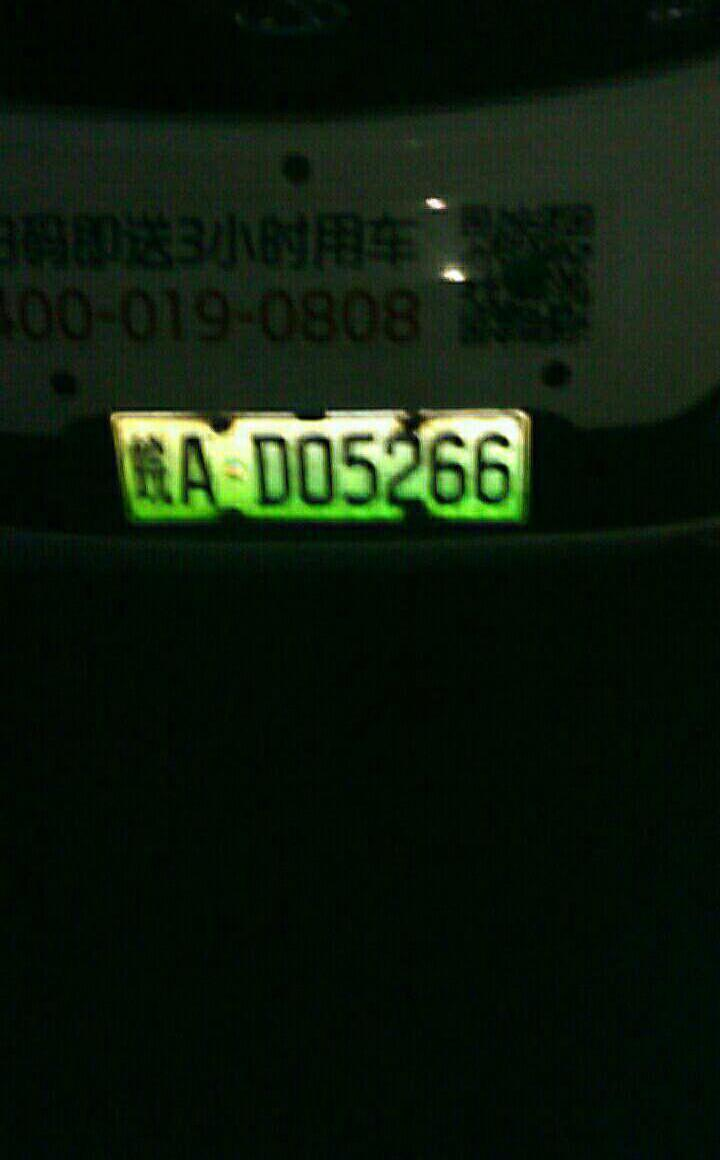car_id: (111, 412, 535, 519)
